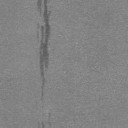red iron: (37, 0, 51, 90), (42, 122, 44, 128)
